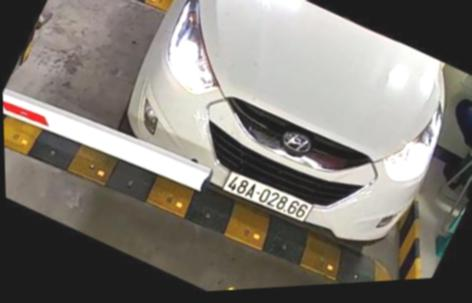License_Plate: (221, 162, 313, 226)
